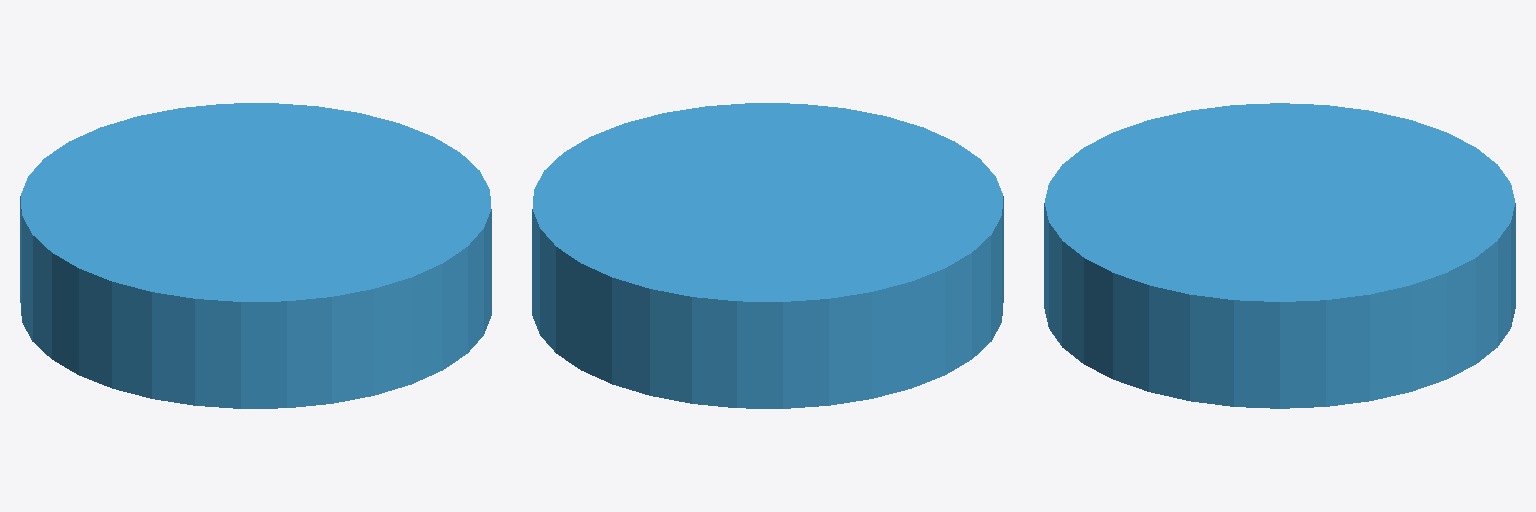
robot.urdf — planar_3dof:
<?xml version="1.0"?>
<robot name="planar_3dof">

<link name="world"/>

<link name="base_link">
<visual>
  <geometry>
   <cylinder length="0.1" radius="0.2"/>
  </geometry>
   <origin rpy="0 0 0" xyz="0 0 0"/>
</visual>
</link>

<joint name="fixed" type="fixed">
    <parent link="world"/>
    <child link="base_link"/>
</joint>




<link name="link_1">

<visual>
  <geometry>
    <mesh filename="package://lesson_urdf/meshes/visual/arm_link.stl"/>
  </geometry>
<material name="grey">
  <color rgba="0.7 0.7 0.7 1.0"/>
</material>
</visual> 

<collision>
    <geometry>
        <cylinder length="0.5" radius="0.05"/>
    </geometry>
    <origin rpy="0 1.5708 0" xyz="0.25 0 0"/>
</collision>

    <inertial>
      <origin xyz="0 0 .25" rpy="0 0 0"/>
      <mass value="1"/>
      <inertia
        ixx="1.0" ixy="0.0" ixz="0.0"
        iyy="1.0" iyz="0.0"
        izz="1.0"/>
    </inertial>
</link>
<joint name="joint_1" type="revolute">
<parent link="base_link"/>
<child link="link_1"/>
<!--Me define la translacion/rotacion entre el sistema padre y el hijo-->
<origin xyz="0 0 0.05" rpy="0 0 0"/>
<axis xyz="0 0 1"/>
<limit lower="-1.57" upper="1.57" effort="0" velocity="0.5"/>
</joint>

<link name="link_2">
<visual>
  <geometry>
    <mesh filename="package://lesson_urdf/meshes/visual/arm_link.stl"/>
  </geometry>

</visual>
<collision>
  <geometry>
    <mesh filename="package://lesson_urdf/meshes/collision/arm_link.stl"/>
  </geometry>
</collision> 
    <inertial>
      <origin xyz="0 0 0.25" rpy="0 0 0"/>
      <mass value="1"/>
      <inertia
        ixx="1.0" ixy="0.0" ixz="0.0"
        iyy="1.0" iyz="0.0"
        izz="1.0"/>
    </inertial>
</link>

<joint name="joint_2" type="revolute">
<parent link="link_1"/>
<child link="link_2"/>
<origin xyz="0.5 0.0 0.0" rpy="0.0 0 0.0" />
<axis xyz="0 0 1"/>
<limit lower="-1.57" upper="1.57" effort="0" velocity="0.5"/>
</joint>

<link name="gripper">
<visual>
  <geometry>
    <mesh filename="package://lesson_urdf/meshes/visual/gripper.stl"/>
  </geometry>

</visual>
<collision>
  <geometry>
    <mesh filename="package://lesson_urdf/meshes/collision/gripper.stl"/>
  </geometry>
</collision> 
    <inertial>
      <origin xyz="0 0 0.1" rpy="0 0 0"/>
      <mass value="1"/>
      <inertia
        ixx="1.0" ixy="0.0" ixz="0.0"
        iyy="1.0" iyz="0.0"
        izz="1.0"/>
    </inertial>
</link>

<joint name="joint_3" type="revolute">
<parent link="link_2"/>
<child link="gripper"/>
<origin xyz="0.5 0.0 0.0" rpy="0.0 0 0.0" />
<axis xyz="0 0 1"/>
<limit lower="-1.57" upper="1.57" effort="0" velocity="0.5"/>
</joint>
<link name="end" />

<joint name="gripper_end" type="fixed" >
    <parent link="gripper" />
    <child link="end" />
    <origin xyz="0.18 0 0" rpy="0 0 0" />
 </joint>

</robot>

--- What the picture shows (computed from the rendered views, not written in the file) ---
The picture shows the robot from 3 angles, left to right: view 1: azimuth 30°, elevation 25°; view 2: azimuth 150°, elevation 25°; view 3: azimuth 270°, elevation 25°; orthographic projection.
Model planar_3dof with 6 links and 5 joints (3 revolute, 2 fixed), rooted at world, posed all joints at 0.
Visible links, largest first — view 1: base_link; view 2: base_link; view 3: base_link.
Link boxes in pixels (x1,y1,x2,y2): base_link: (20,103,491,408); base_link: (532,103,1003,408); base_link: (1044,103,1515,408).
Size in the robot's own frame: 0.4 by 0.4 by 0.1 metres.
0 mesh visuals loaded from 2 distinct referenced files (none loaded); not drawn: 3 (reference not matched to a file when rendering).